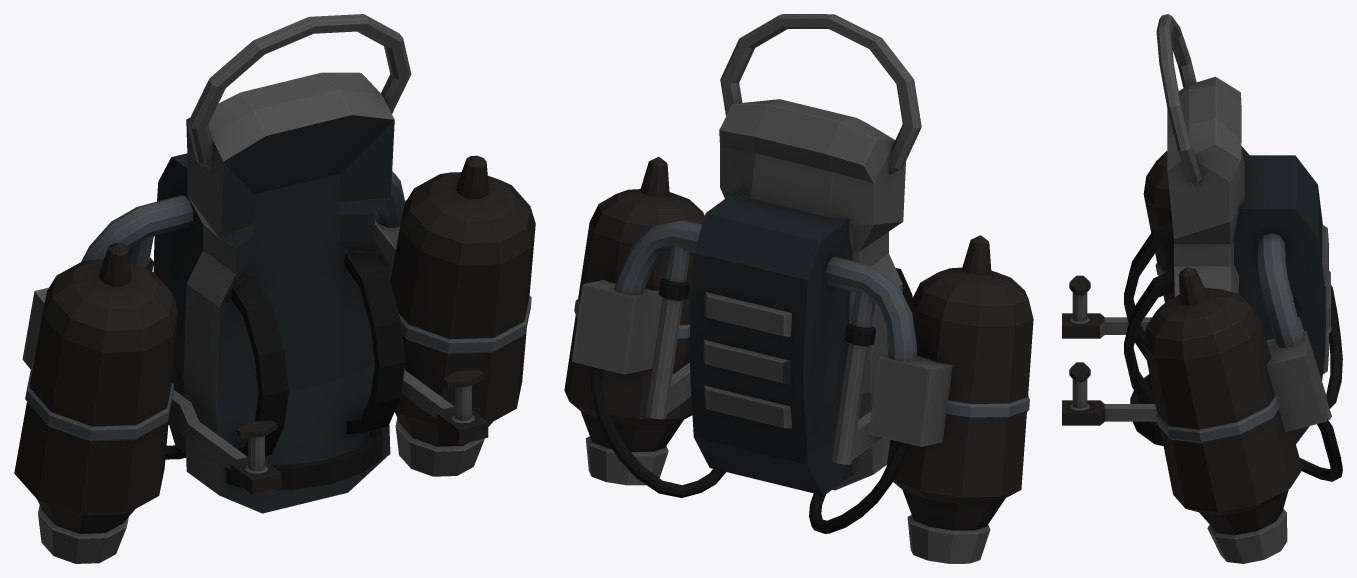
Rendered from jetpack_-_low_poly.glb.
The picture shows the model from 3 angles, left to right: view 1: azimuth 30°, elevation 25°; view 2: azimuth 150°, elevation 25°; view 3: azimuth 270°, elevation 25°; orthographic projection. The views are drawn at different scales.
Visible parts, largest first — view 1: Object_2; view 2: Object_2; view 3: Object_2.
Part boxes in pixels (<box>): Object_2: <box>14,14,535,563</box>; Object_2: <box>564,14,1033,563</box>; Object_2: <box>1062,14,1342,563</box>.
Bounding box in the file's own units: 12.42 × 12.89 × 7.24.
1 material, 1 textured.
